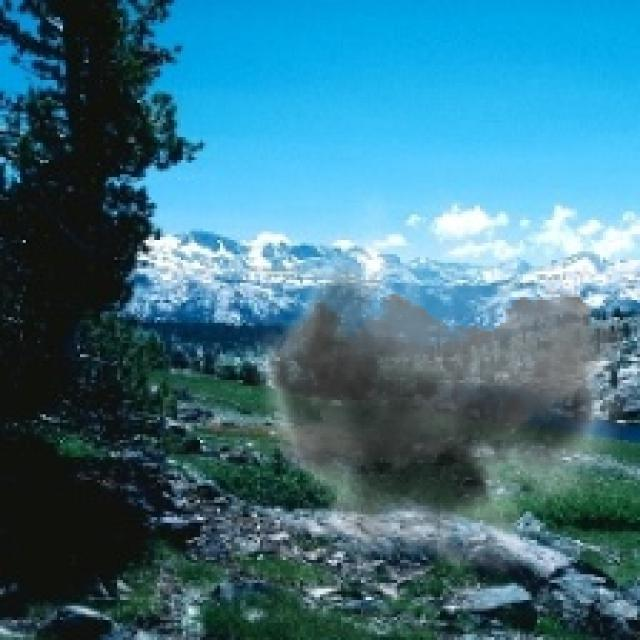Smoke: (234, 186, 629, 592)
